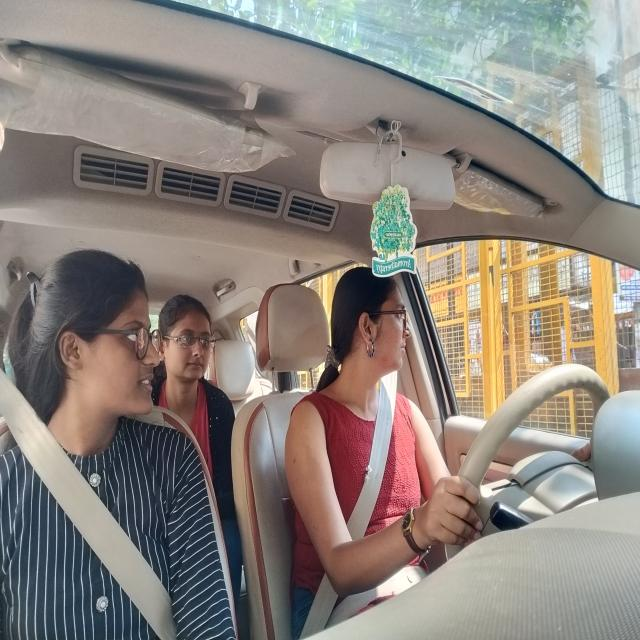LeftRight: (330, 264, 416, 385)
person: (41, 253, 166, 429), (156, 294, 216, 394)
